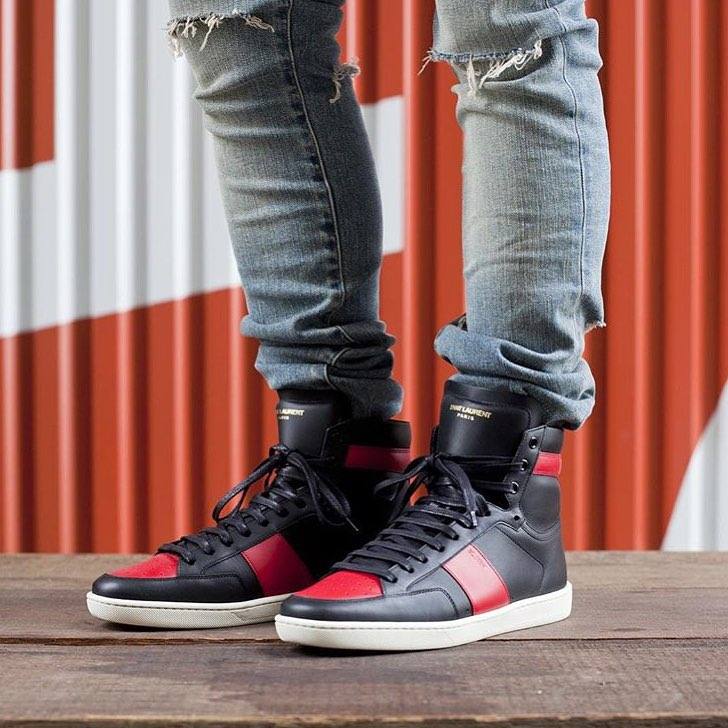sneaker: (266, 381, 593, 661), (79, 390, 427, 641)
